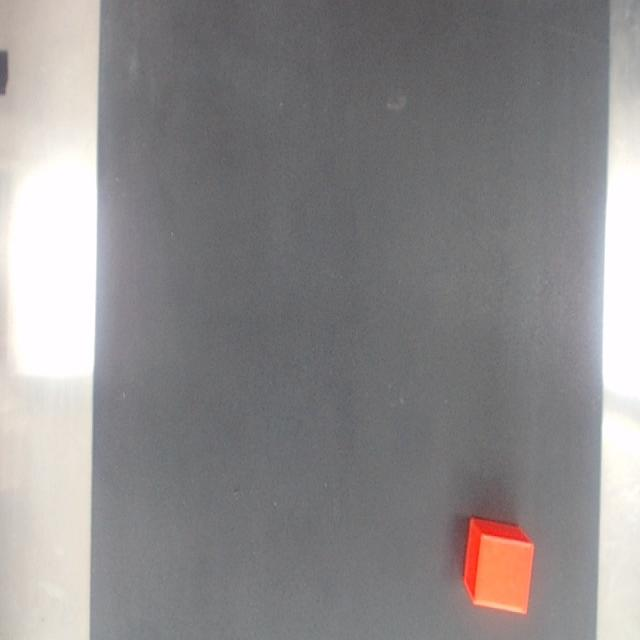Rojo: (463, 517, 534, 613)
